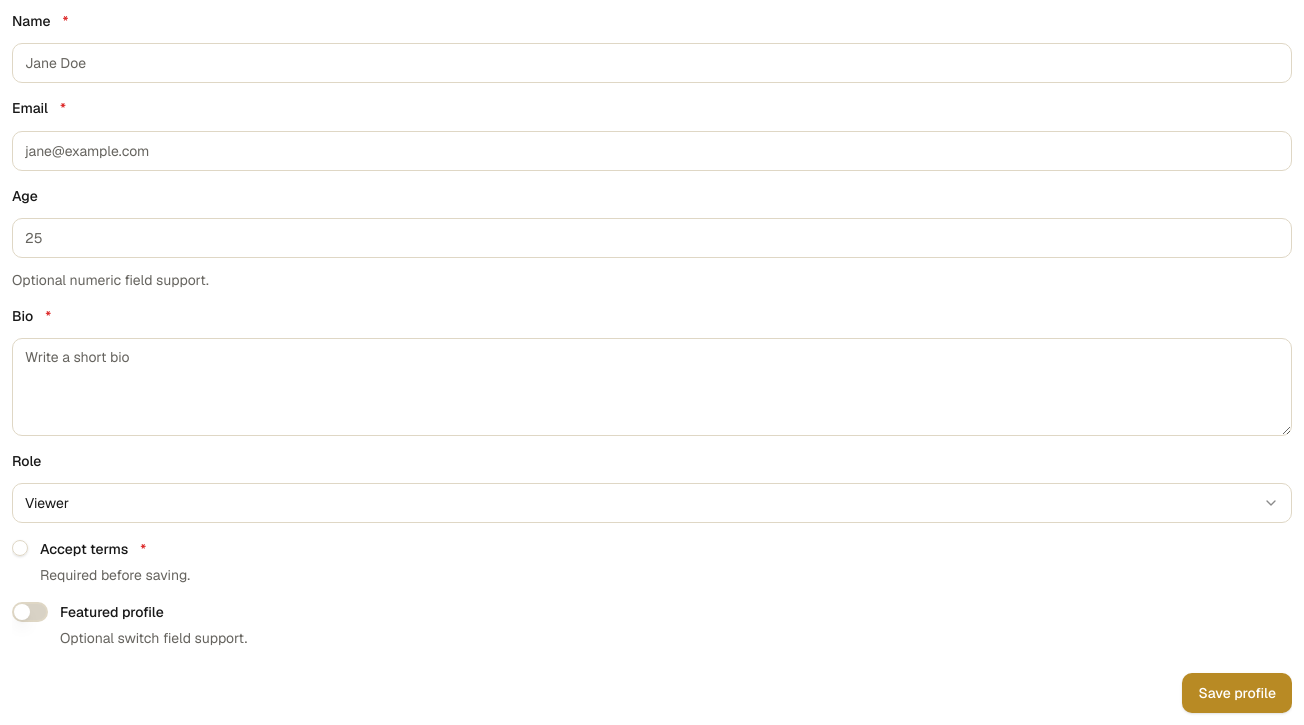
it: DynamicForm › shows a friendly root error if submit fails
The image size is (1304, 725).
Type "Alice" into the field labelled "Name *" at (652, 63), box [12,43,1292,83]
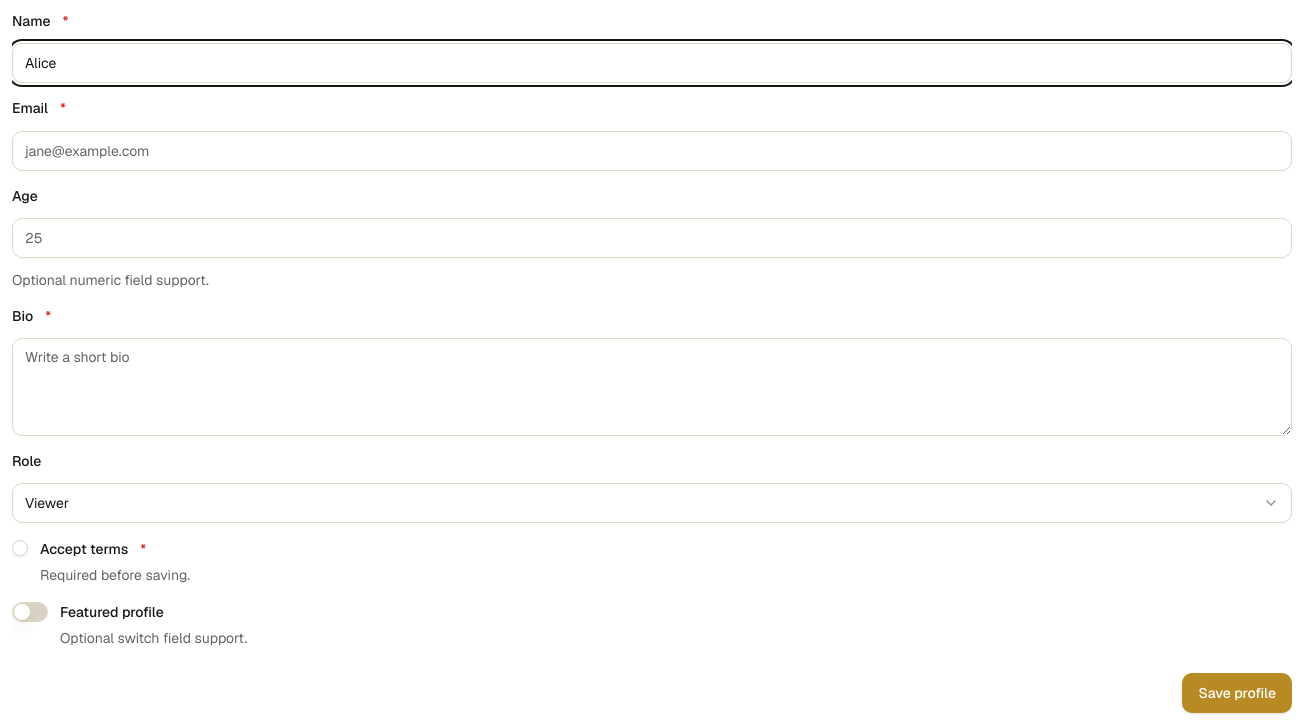
Type "alice@example.com" into the field labelled "Email *" at (652, 150), box [12,130,1292,170]
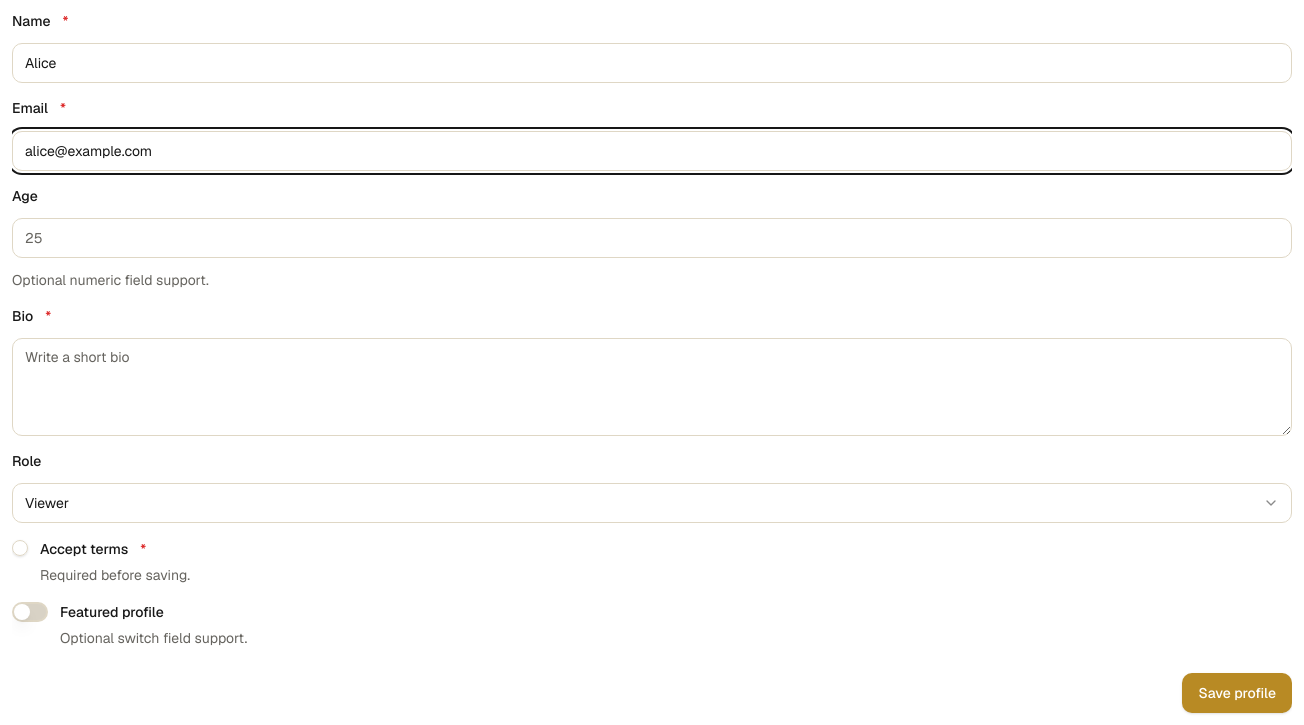
Type "This bio is comfortably long enough." into the text box labelled "Bio *" at (652, 387), box [12,338,1292,436]
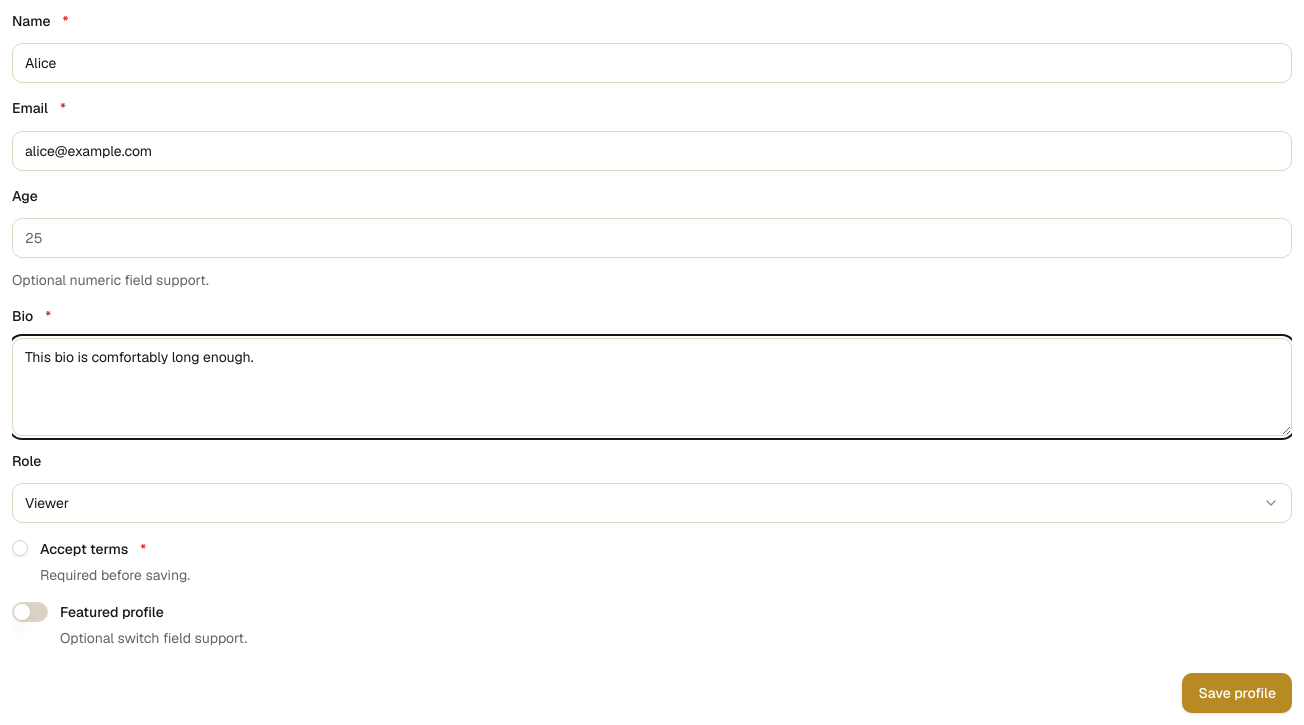
Click the checkbox named "accept terms" at (20, 548), box [12,540,28,556]
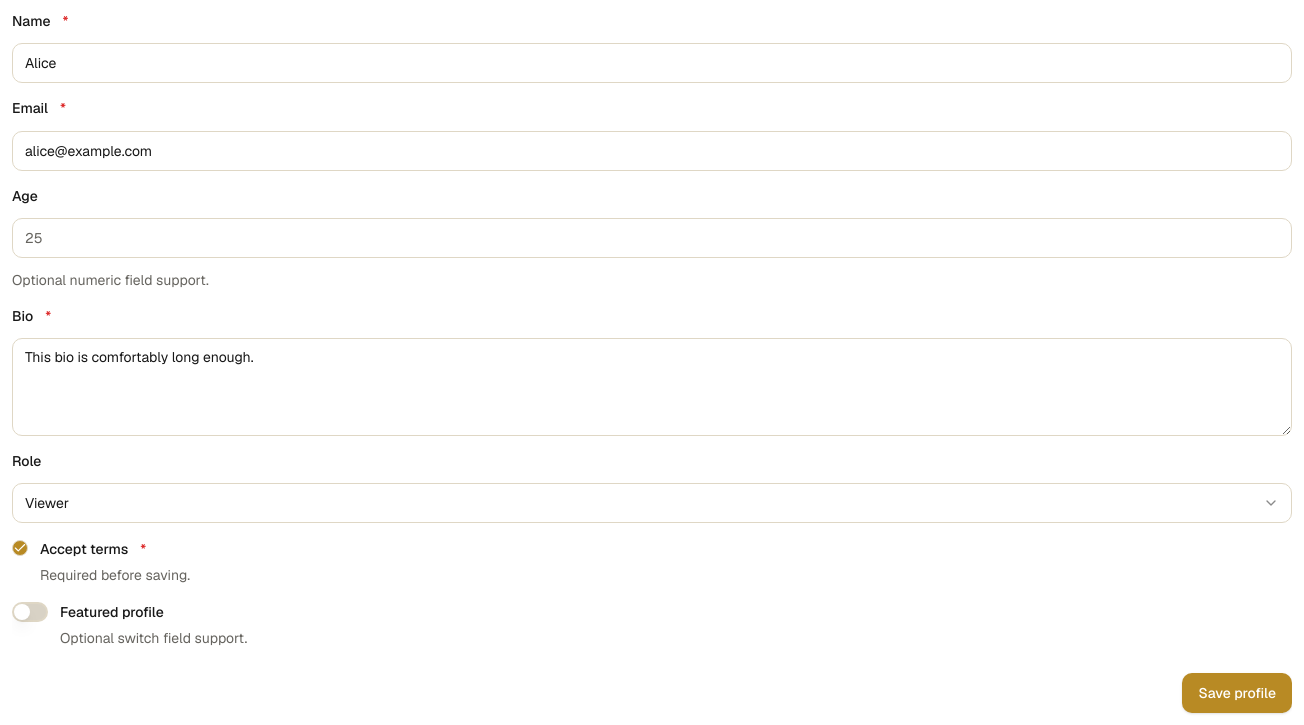
Click the button "Save profile" at (1237, 693), box [1182,673,1292,713]
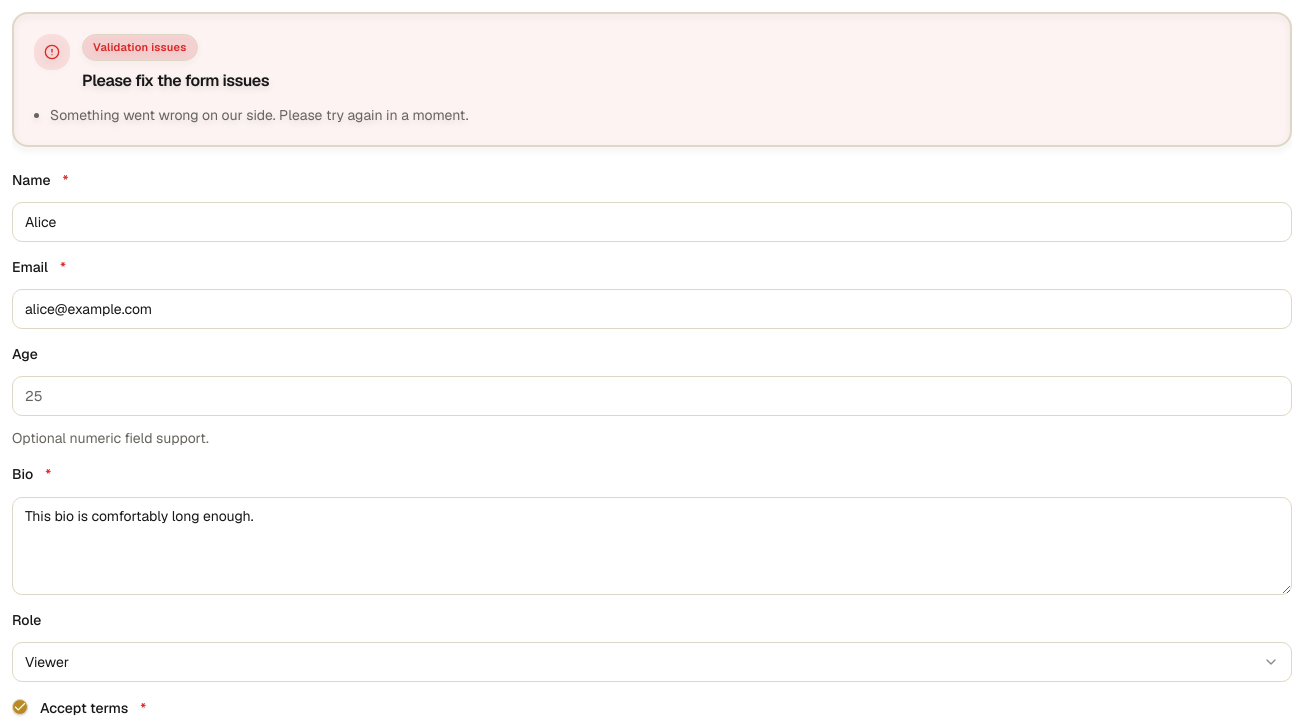
Expected: the list item "Something went wrong on our side. Please try again in a moment." is shown, [50,106,468,124]
